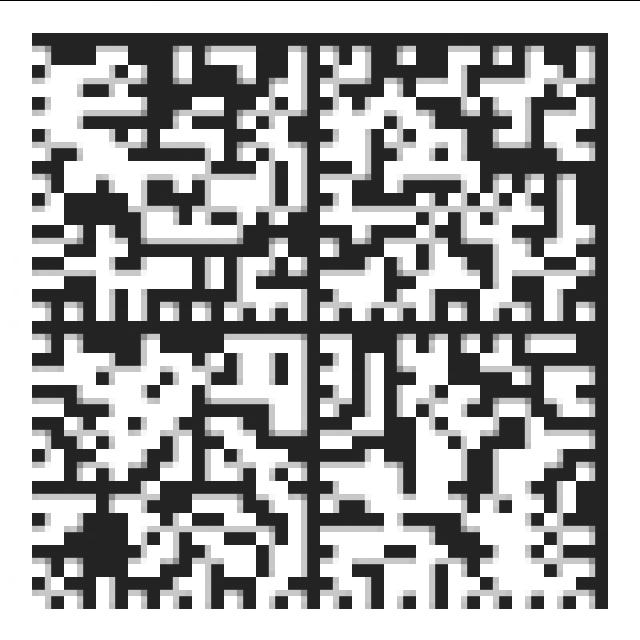DataMatrix: (20, 19, 614, 621)
